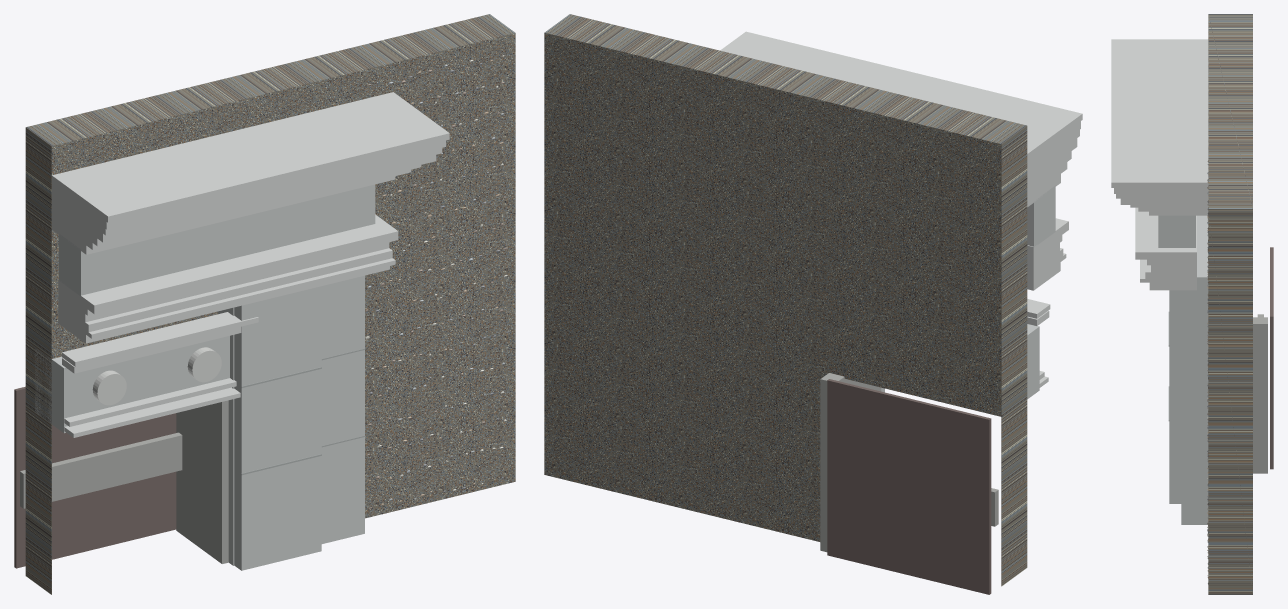
Rendered from yueyang-168-jingju-pebble-dash-doorhead-far.glb.
3 renders of one model, left to right at view 1: azimuth 30°, elevation 25°; view 2: azimuth 150°, elevation 25°; view 3: azimuth 270°, elevation 25°, orthographic. The views are drawn at different scales.
Visible parts, largest first — view 1: 上海京剧传习馆1号楼鹅卵石墙与门楣双圆饰; view 2: 上海京剧传习馆1号楼鹅卵石墙与门楣双圆饰; view 3: 上海京剧传习馆1号楼鹅卵石墙与门楣双圆饰.
Boxes of the visible parts, x1,y1,x2,y2 form: 上海京剧传习馆1号楼鹅卵石墙与门楣双圆饰: [14, 14, 515, 594]; 上海京剧传习馆1号楼鹅卵石墙与门楣双圆饰: [544, 14, 1082, 594]; 上海京剧传习馆1号楼鹅卵石墙与门楣双圆饰: [1111, 14, 1273, 594].
Bounding box in the file's own units: 1.61 × 1.49 × 0.567.
Materials: 12 (1 with a texture image).
